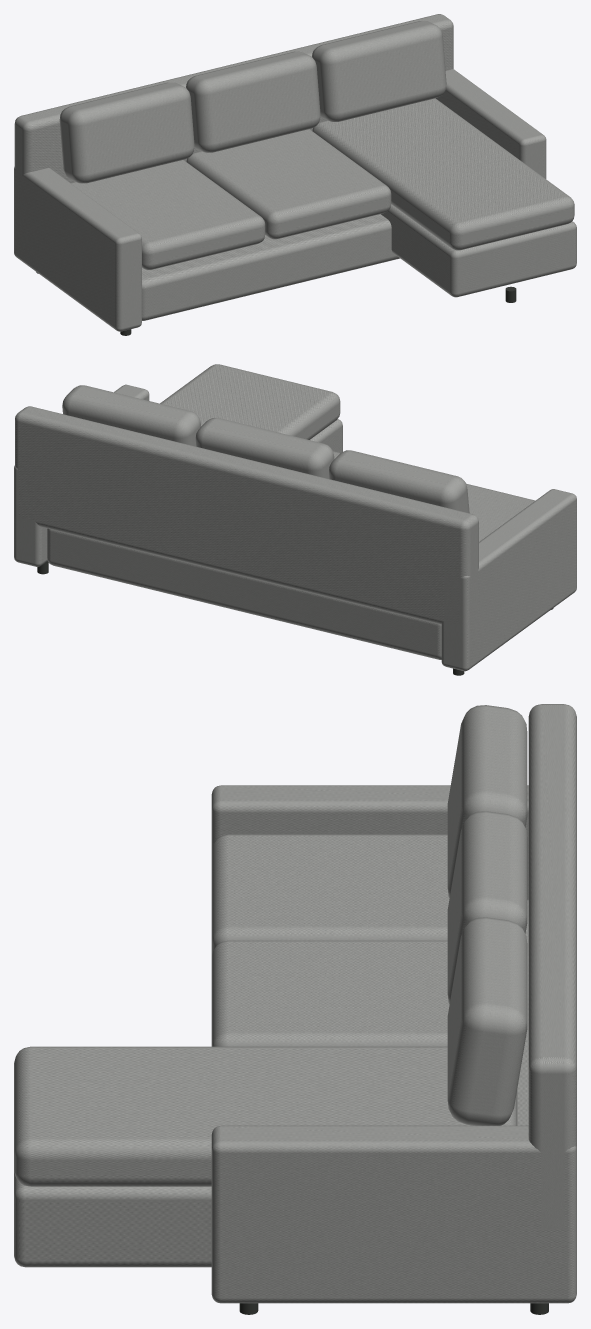
File: friheten.glb
3 views of the same model, one above another, from view 1: azimuth 30°, elevation 25°; view 2: azimuth 150°, elevation 25°; view 3: azimuth 270°, elevation 25° (orthographic). The views are drawn at different scales.
Parts seen in each view (by area): view 1: FRIHETEN Corner sleeper sofa; view 2: FRIHETEN Corner sleeper sofa; view 3: FRIHETEN Corner sleeper sofa.
Part boxes in pixels (bbox=[...]): FRIHETEN Corner sleeper sofa: bbox=[14, 14, 576, 335]; FRIHETEN Corner sleeper sofa: bbox=[14, 364, 576, 675]; FRIHETEN Corner sleeper sofa: bbox=[14, 704, 576, 1314].
Bounding box in the file's own units: 2.3 × 0.86 × 1.51.
Materials: 2 (2 with a texture image).
